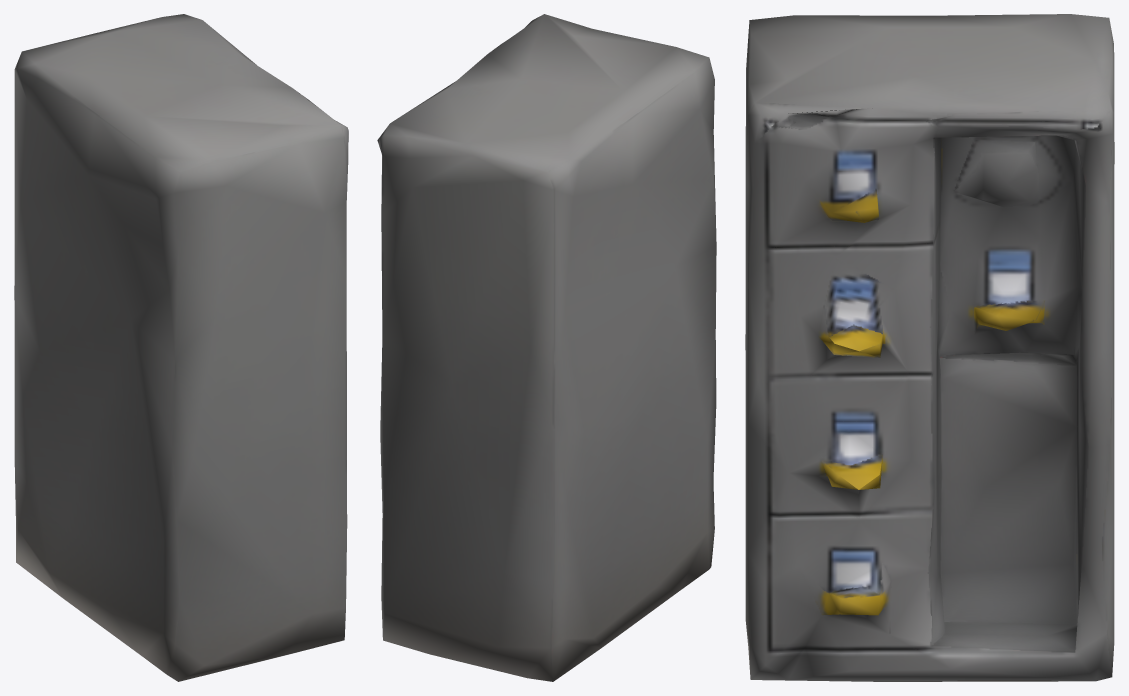
Rendered from filing-cabinet.glb.
3 renders of one model, left to right at view 1: azimuth 30°, elevation 25°; view 2: azimuth 150°, elevation 25°; view 3: azimuth 270°, elevation 25°, orthographic. The views are drawn at different scales.
Parts seen in each view (by area): view 1: geometry_0.001; view 2: geometry_0.001; view 3: geometry_0.001.
Boxes of the visible parts, x1,y1,x2,y2 form: geometry_0.001: [14, 14, 348, 681]; geometry_0.001: [377, 14, 716, 681]; geometry_0.001: [745, 14, 1114, 681].
Bounding box in the file's own units: 0.4081 × 0.9989 × 0.5773.
Materials: 1 (1 with a texture image).
